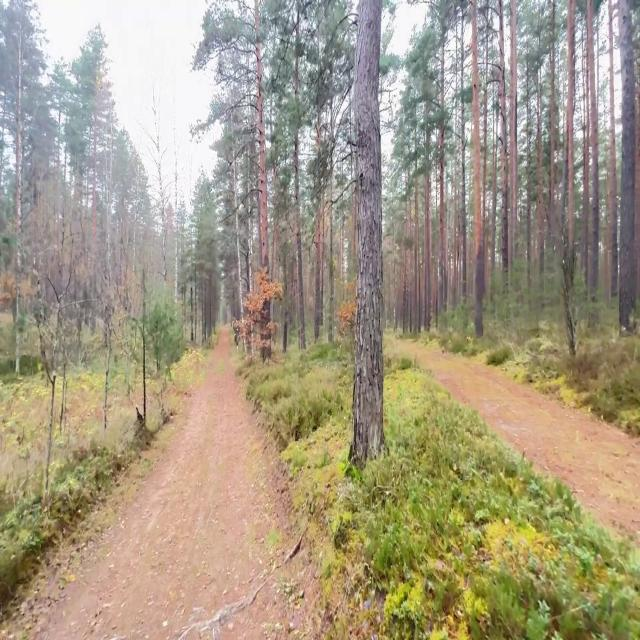bush: (138, 289, 184, 420), (234, 270, 282, 360), (44, 370, 56, 499), (103, 303, 112, 429), (141, 270, 146, 428)
trees: (349, 0, 384, 466), (619, 0, 635, 333), (144, 83, 169, 283), (471, 0, 483, 337), (293, 18, 305, 349), (586, 0, 599, 302), (254, 0, 268, 269), (608, 0, 618, 296), (498, 0, 508, 288), (488, 34, 498, 303), (632, 0, 639, 328), (567, 0, 575, 267), (15, 17, 22, 322), (460, 9, 467, 300), (438, 31, 445, 311), (510, 0, 517, 267), (524, 58, 532, 289), (232, 160, 243, 320), (581, 71, 589, 286), (187, 157, 196, 341), (537, 95, 545, 278), (314, 194, 323, 341), (173, 117, 179, 301), (550, 0, 555, 212), (424, 172, 430, 330), (414, 192, 420, 331), (328, 204, 334, 342), (246, 189, 253, 291)
